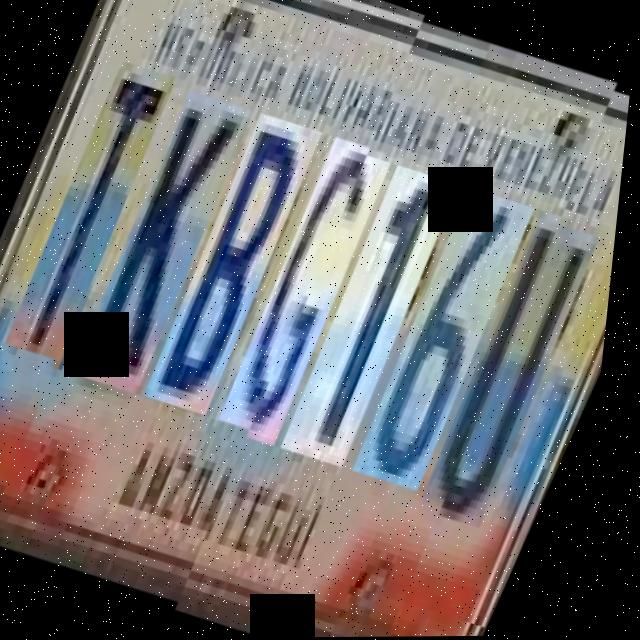1: (282, 158, 472, 464)
6: (353, 181, 548, 488)
B: (141, 113, 331, 418)
G: (216, 137, 404, 441)
K: (69, 90, 263, 396)
T: (0, 67, 183, 370)
U: (422, 204, 617, 518)
